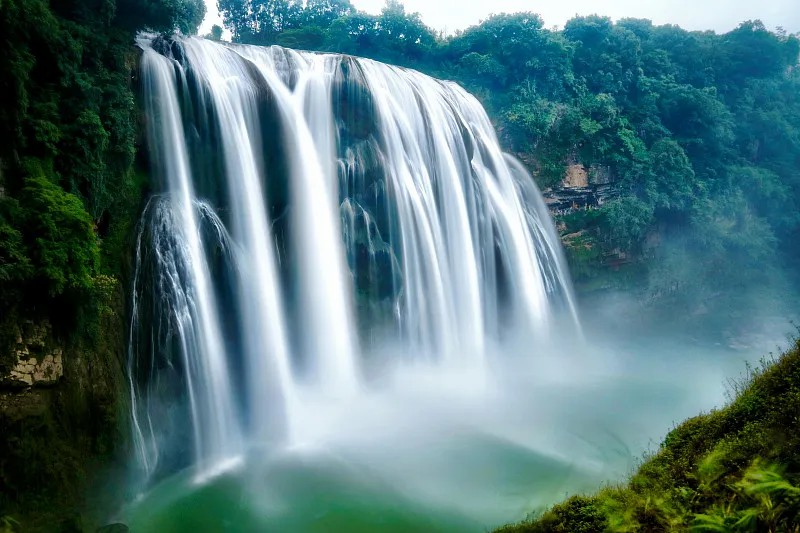Huangguoshu: (131, 28, 585, 471)
